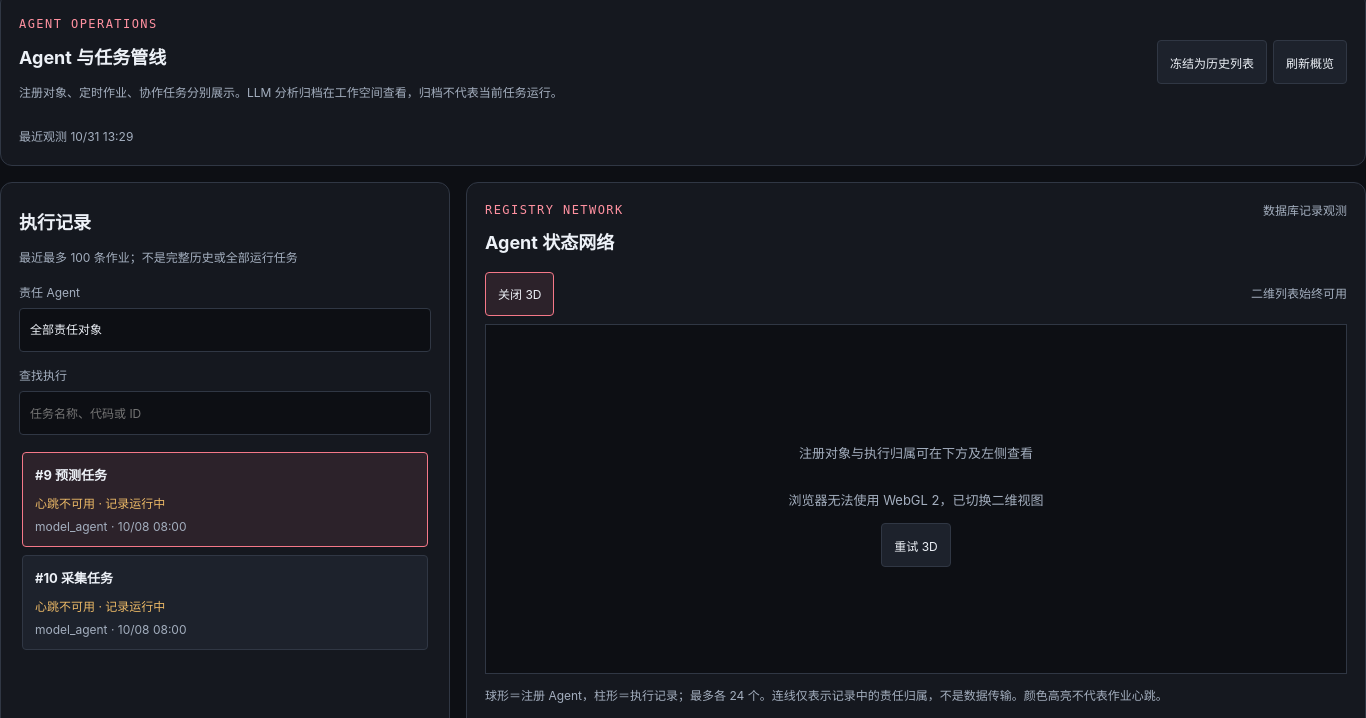
Agent execution desk › prevents an old late detail response from overwriting a new selection
The image size is (1366, 718).
Click the button "#10 采集任务 心跳不可用 · 记录运行中 model_agent · 10/08 08:00" at (87, 578), box x1=22 y1=555 x2=428 y2=650
(page scrolled)
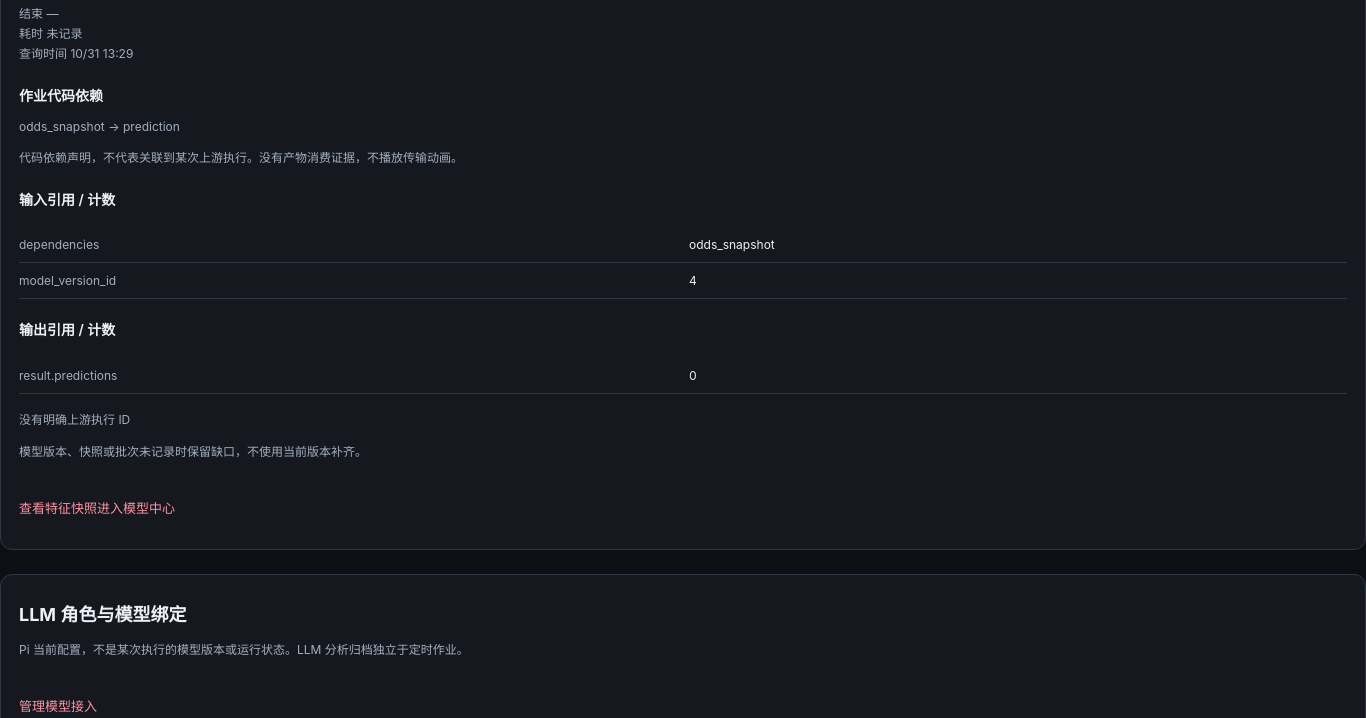
Expected: the text "result.predictions" is shown, x1=19 y1=368 x2=117 y2=383
